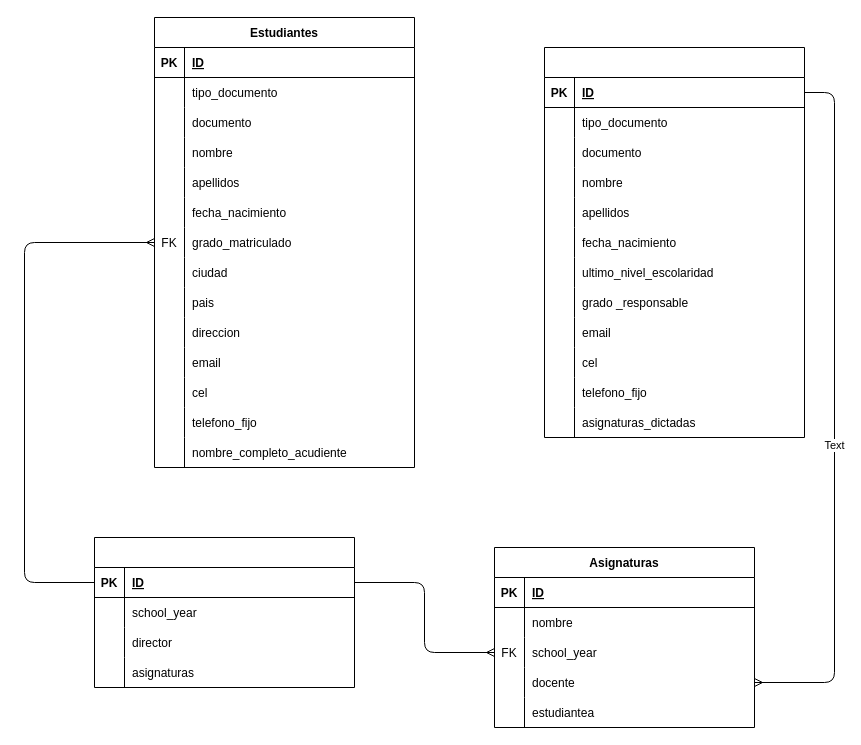
This 861x745 diagram has some shape labels left out. The shapes that lost their labels are listed below. From the top down, each one's box as (x1, y1, x2, y2) in pixels, then its label:
(544, 46, 804, 438): Docentes
(94, 536, 354, 688): SchoolYears
